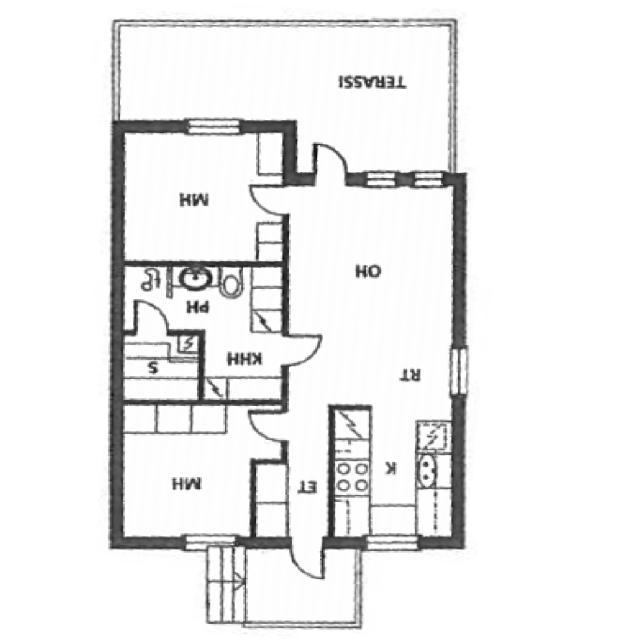door: (306, 136, 354, 192), (277, 327, 329, 370), (244, 177, 295, 220), (126, 296, 175, 340), (242, 406, 292, 448), (286, 540, 329, 583)
window: (442, 341, 475, 404), (178, 112, 248, 140), (176, 528, 241, 554), (360, 166, 405, 192)
zone: (287, 181, 463, 541), (115, 400, 288, 544), (119, 128, 288, 264), (118, 263, 284, 333), (118, 333, 203, 402)
